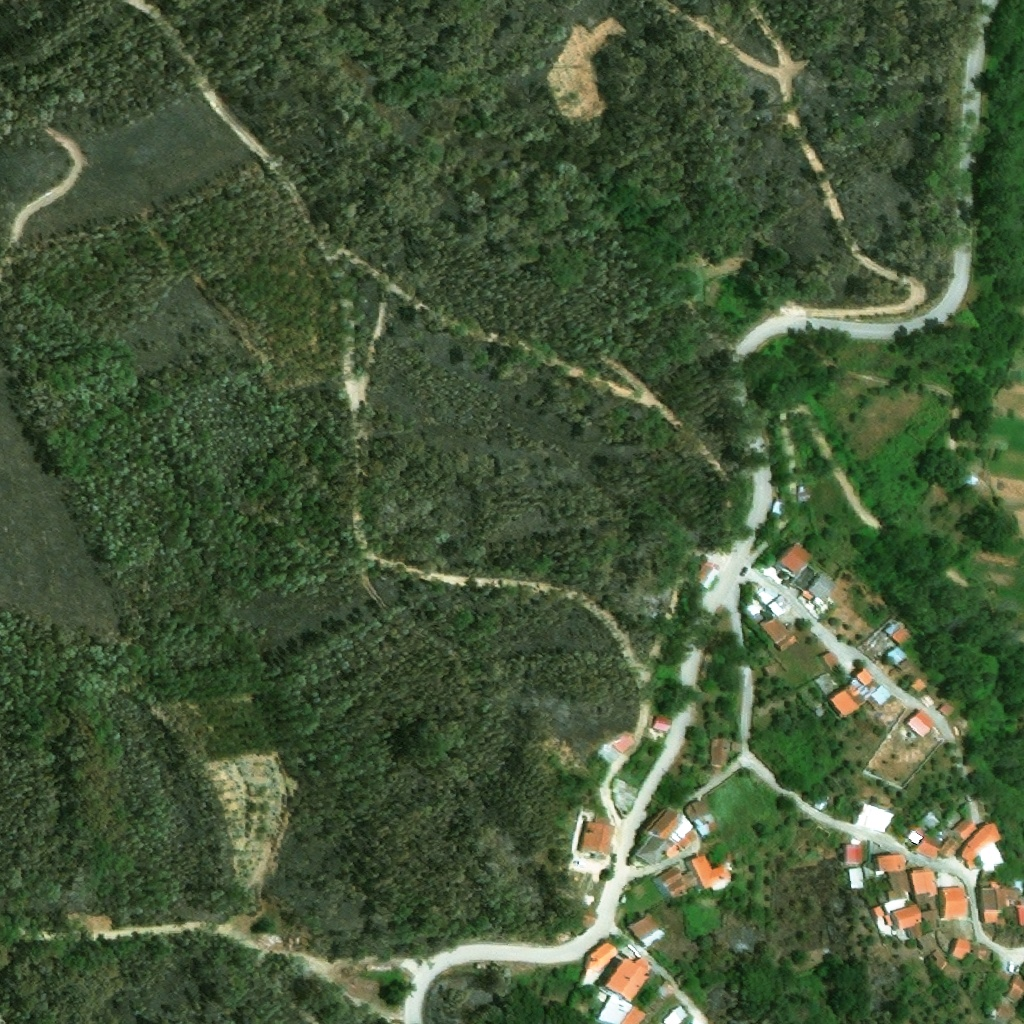0 no-damage: (635, 808, 698, 867), (654, 854, 730, 900), (958, 820, 1005, 875), (827, 668, 874, 717), (603, 956, 652, 1002), (580, 937, 620, 987), (596, 986, 646, 1023), (979, 882, 1022, 925), (909, 828, 960, 861), (577, 820, 615, 858), (878, 870, 910, 914), (683, 801, 720, 839), (760, 618, 798, 653), (626, 915, 665, 948), (800, 574, 836, 608), (855, 804, 894, 835), (776, 543, 811, 577), (939, 887, 967, 921), (711, 738, 741, 769), (908, 868, 937, 898), (890, 903, 922, 930), (904, 710, 933, 738), (882, 619, 911, 646), (884, 647, 913, 672), (694, 563, 720, 589), (873, 854, 906, 873), (951, 818, 977, 841), (987, 1003, 1016, 1023), (868, 684, 892, 708), (764, 596, 790, 618), (949, 937, 973, 960), (662, 1004, 689, 1023), (813, 673, 836, 695), (614, 731, 634, 754), (1006, 975, 1023, 1002), (754, 587, 778, 606), (841, 844, 862, 865), (742, 597, 762, 618), (819, 651, 840, 671), (650, 718, 669, 740), (845, 869, 864, 891), (918, 931, 937, 953), (920, 811, 940, 831), (873, 916, 892, 936), (891, 924, 912, 942), (904, 923, 923, 941), (769, 500, 787, 518), (932, 949, 948, 969), (910, 678, 926, 694), (944, 813, 961, 828), (937, 703, 952, 719), (795, 487, 808, 505), (870, 905, 885, 917), (883, 914, 892, 924)
4 un-classified: (1015, 905, 1023, 926)
